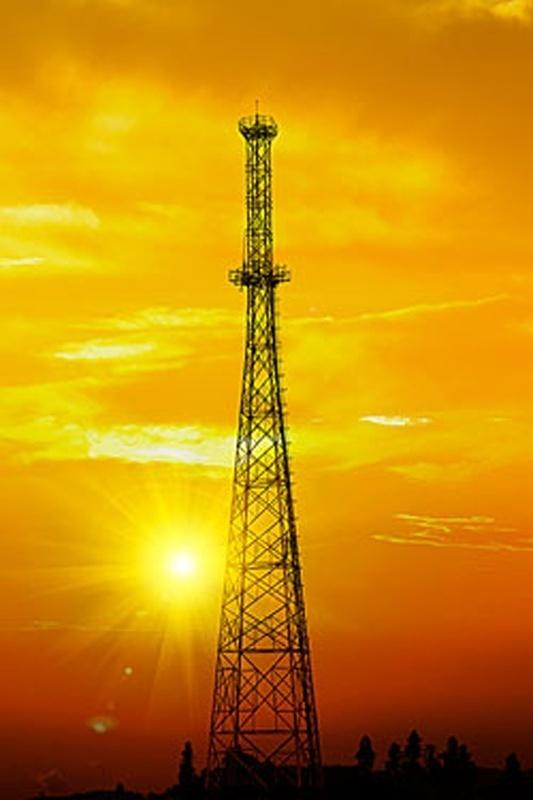power_tower: (216, 108, 345, 770)
